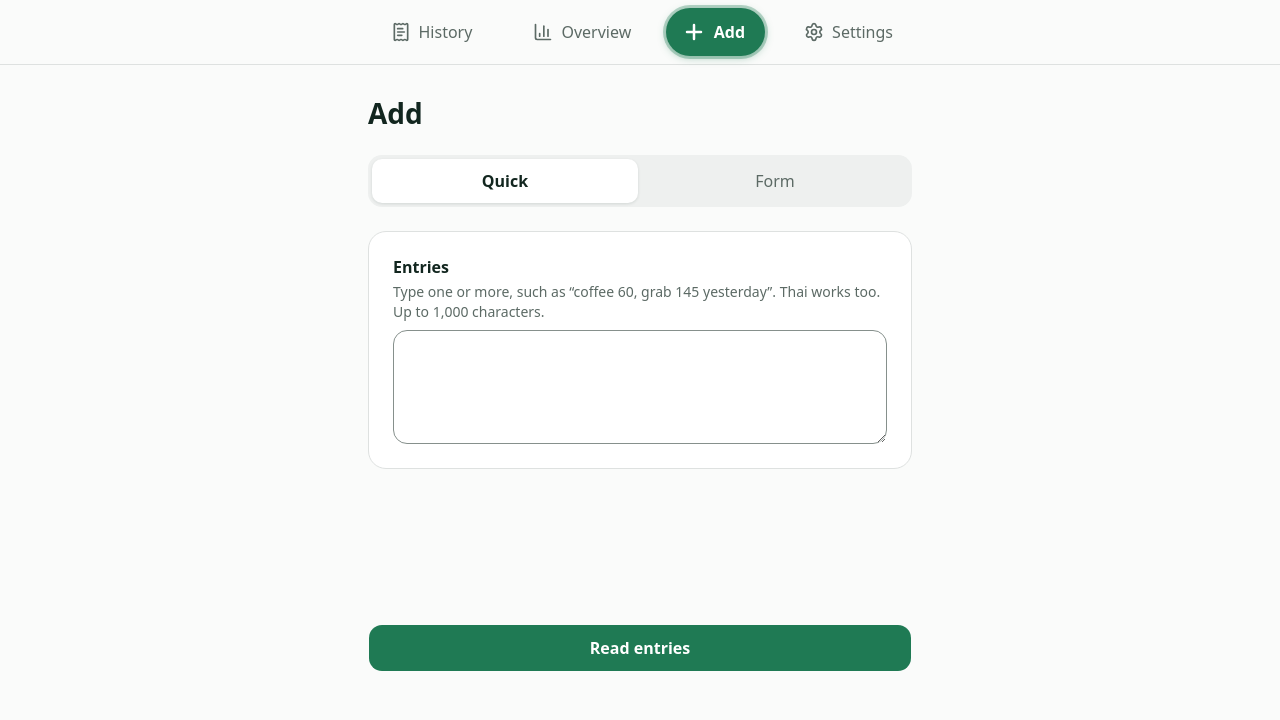
it: Add, Quick mode › shows any other parse failure under the box and keeps the text
This screenshot has width=1280, height=720.
Click the text box labelled "Entries" at (640,387), box [393,330,887,444]
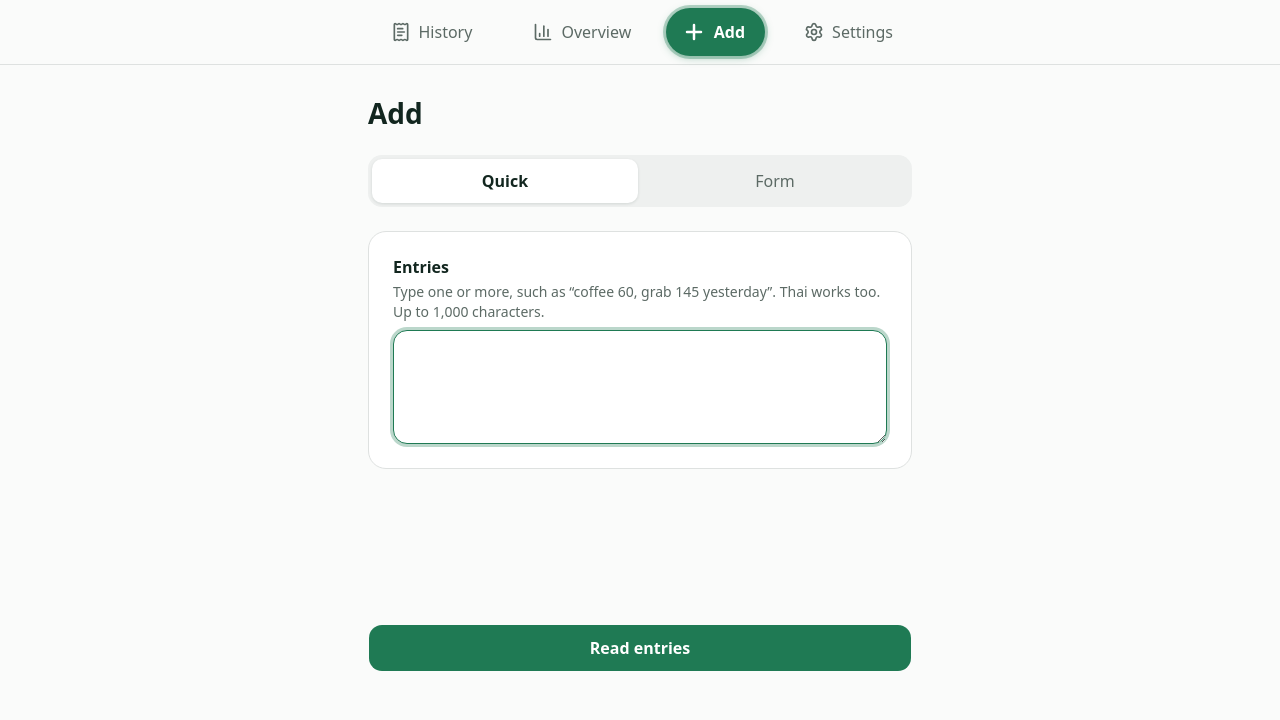
Type keys "coffee 60"
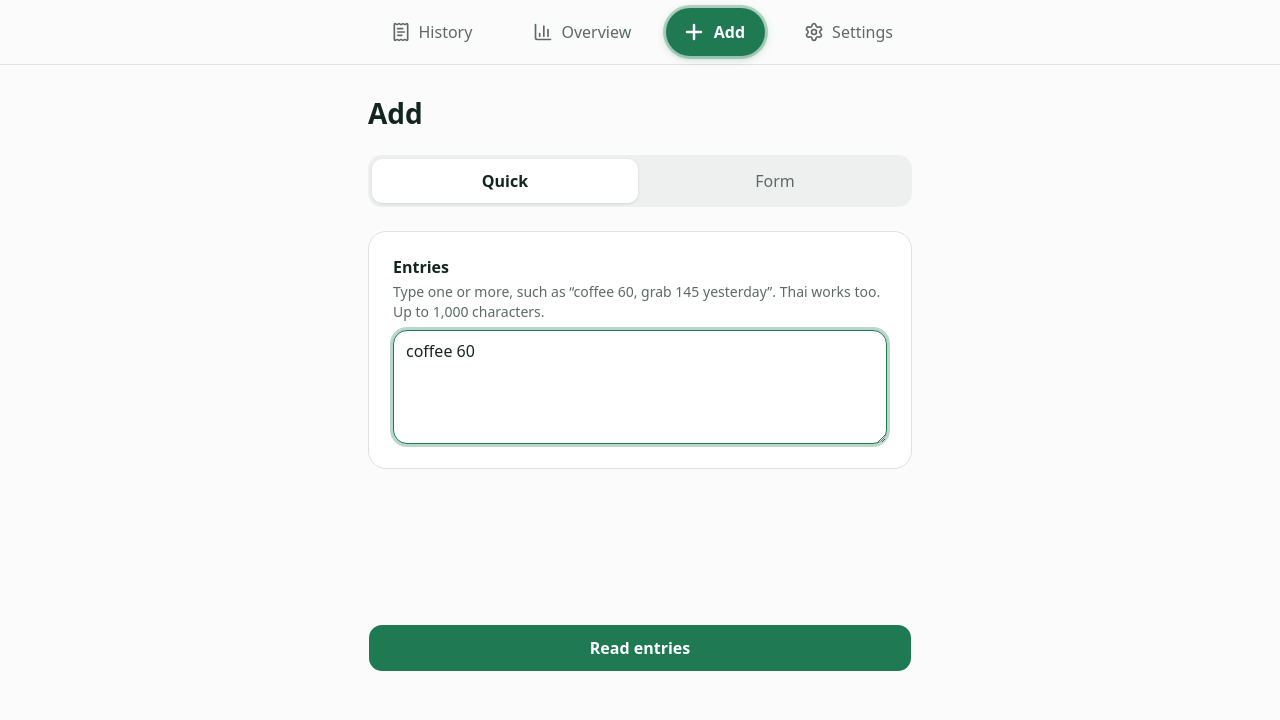
Click the button "Read entries" at (640,648), box [368,624,912,672]
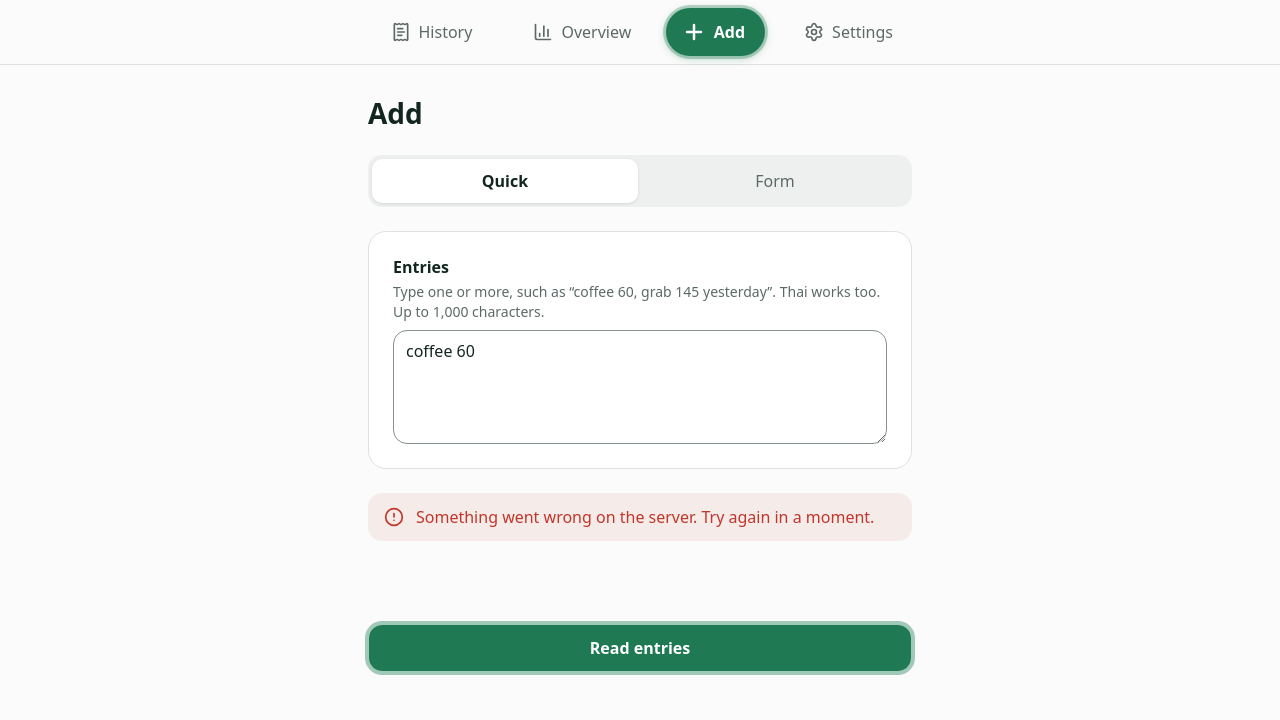
Now the text box labelled "Entries" holds "coffee 60", box [393,330,887,444]
Now the message shows "Something went wrong on the server", box [416,506,874,528]
